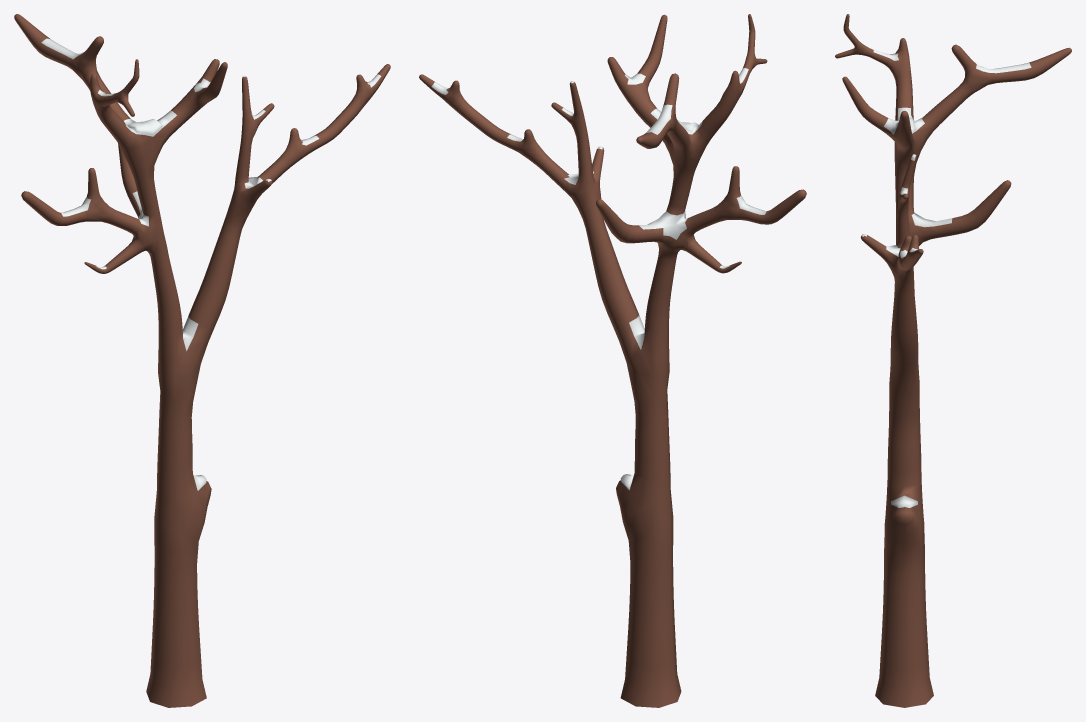
The model's file is Big tree (near the bench).fbx.
3 renders of one model, left to right at view 1: azimuth 30°, elevation 25°; view 2: azimuth 150°, elevation 25°; view 3: azimuth 270°, elevation 25°, orthographic. The views are drawn at different scales.
Visible parts, largest first — view 1: Big tree (near the bench); view 2: Big tree (near the bench); view 3: Big tree (near the bench).
Part boxes in pixels (<box>): Big tree (near the bench): <box>14,14,390,707</box>; Big tree (near the bench): <box>419,14,806,707</box>; Big tree (near the bench): <box>835,14,1071,707</box>.
Size of the model in its own units: 3355 by 5735 by 1895.
